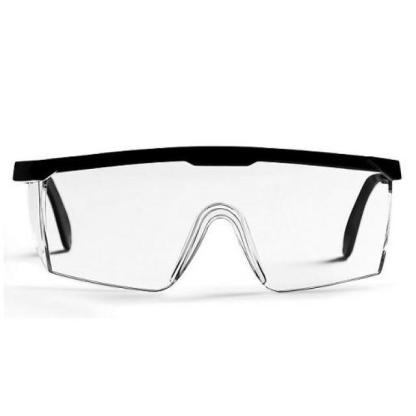oculos: (7, 143, 406, 319)
